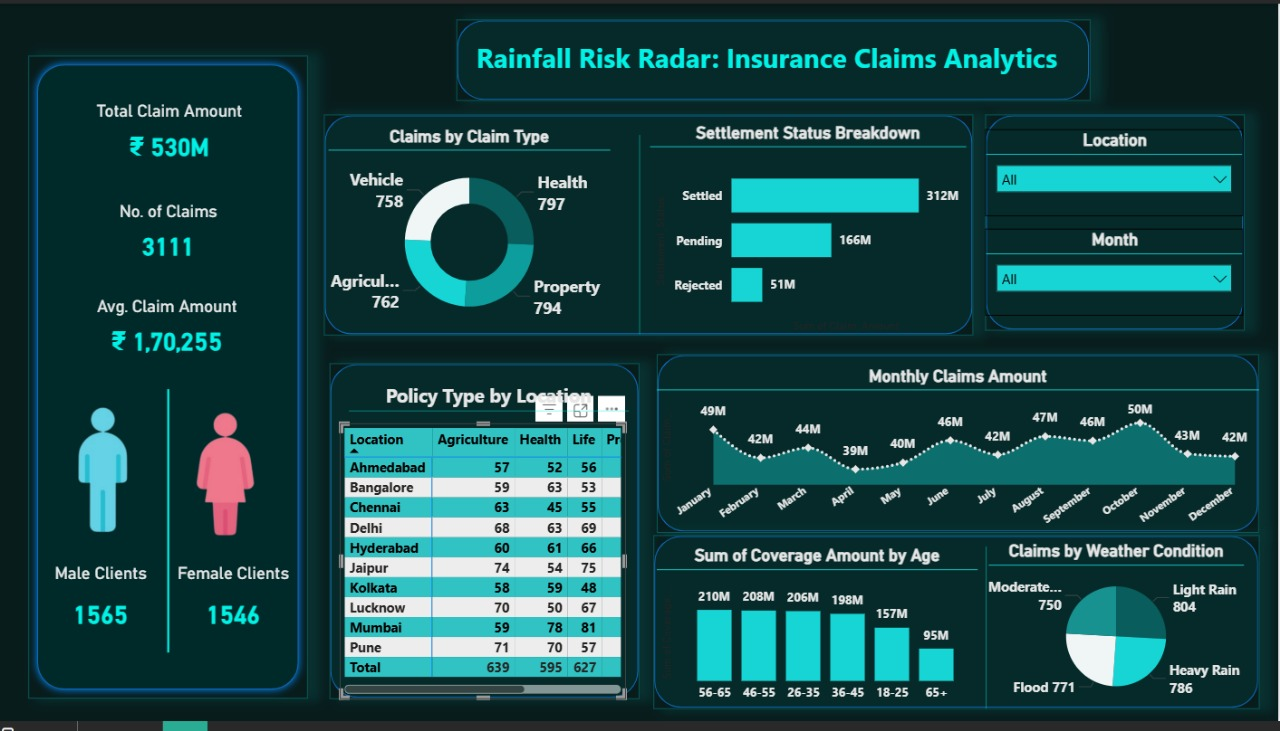

This screenshot's page, from the dashboard's own definition file:
{"tool":"powerbi","page":{"name":"Page 1","canvas":[1280,720],"ordinal":0},"visuals":[{"type":"shape","box":[28.8,52.1,279.9,644.9],"z":0},{"type":"shape","box":[28.1,387.2,280.2,264],"z":1000},{"type":"card","title":"Total Claim Amount","fields":{"Values":["Measure.Total Claim Amount"]},"box":[29.1,97.7,280.2,71.6],"z":2000},{"type":"card","title":"No. of Claims","fields":{"Values":["Measure.Total Policies"]},"box":[27.9,198.6,280.2,70.9],"z":3000},{"type":"card","title":"Avg. Claim Amount","fields":{"Values":["Measure.Average Claim Amount"]},"box":[26.7,293.3,280.2,70.9],"z":4000},{"type":"image","box":[62.1,390.7,82.6,151.2],"z":5000},{"type":"card","title":"Male Clients","fields":{"Values":["Measure.Male Claim Amount"]},"box":[47.6,561.4,106.6,82.8],"z":6000},{"type":"image","box":[183.7,395.3,83.7,148.8],"z":7000},{"type":"card","title":"Female  Clients","fields":{"Values":["Measure.Female Clients"]},"box":[159.9,561.4,147.4,82.8],"z":8000},{"type":"shape","box":[457.1,15.6,634.9,81.8],"z":9000},{"type":"textbox","box":[457.1,31.2,622,51.9],"z":10000},{"type":"shape","box":[324.8,111.2,650.8,221.7],"z":11000},{"type":"donutChart","title":"Claims by Claim Type","fields":{"Y":["CountNonNull(rain_insurance_claims_4568 (1).Claim_ID)"],"Category":["rain_insurance_claims_4568 (1).Claim_Type"]},"box":[329.2,122,282.6,206.8],"z":12000},{"type":"shape","box":[500.2,131.6,280.9,200.3],"z":13000},{"type":"clusteredBarChart","title":"Settlement Status Breakdown","fields":{"Y":["Sum(rain_insurance_claims_4568 (1).Claim_Amount)"],"Category":["rain_insurance_claims_4568 (1).Settlement_Status"]},"box":[650.8,119.5,316.5,213.4],"z":14000},{"type":"shape","box":[329.5,360.4,310.6,336.7],"z":15000},{"type":"shape","box":[657.9,351.9,603.4,179],"z":16000},{"type":"areaChart","title":"Monthly Claims Amount","fields":{"Category":["rain_insurance_claims_4568 (1).Claim_Date.Variation.Date Hierarchy.Month"],"Y":["Sum(rain_insurance_claims_4568 (1).Claim_Amount)"]},"box":[657.9,362.5,603.4,168.3],"z":17000},{"type":"shape","box":[654.3,533.2,606.9,174.3],"z":18000},{"type":"pivotTable","title":"Settlement Status Breakdown","fields":{"Rows":["rain_insurance_claims_4568 (1).Location"],"Values":["CountNonNull(rain_insurance_claims_4568 (1).Claim_ID)"],"Columns":["rain_insurance_claims_4568 (1).Policy_Type"]},"box":[340.2,420.8,286.9,276.2],"z":19000},{"type":"shape","box":[986.8,111.7,259.7,216.8],"z":20000},{"type":"columnChart","title":"Sum of Coverage Amount by Age","fields":{"Y":["Sum(rain_insurance_claims_4568 (1).Coverage_Amount)"],"Category":["rain_insurance_claims_4568 (1).Age Range"]},"box":[657.9,542.9,321.2,164.8],"z":21000},{"type":"shape","box":[847.6,544.1,280.9,162.4],"z":22000},{"type":"pieChart","title":"Claims by Weather Condition","fields":{"Category":["rain_insurance_claims_4568 (1).Weather_Condition"],"Y":["CountNonNull(rain_insurance_claims_4568 (1).Claim_Type)"]},"box":[990.7,538.9,255.8,164.9],"z":23000},{"type":"slicer","title":"Location","fields":{"Values":["rain_insurance_claims_4568 (1).Location"]},"box":[986.8,125.9,258.4,87],"z":24000},{"type":"slicer","title":"Month","fields":{"Values":["rain_insurance_claims_4568 (1).Claim_Date.Variation.Date Hierarchy.Month"]},"box":[986.8,225.9,258.4,87],"z":25000},{"type":"textbox","box":[337.6,375.2,302.5,45.4],"z":26000},{"type":"shape","box":[349.3,309,280.5,200],"z":27000}]}

Visuals, with their boxes in screenshot pixels (x1, y1, x2, y2), scaled from the page's 1280x720 canvas onto the 1280x731 screenshot:
shape: [29, 53, 309, 708]
shape: [28, 393, 308, 661]
"Total Claim Amount" card: [29, 99, 309, 172]
"No. of Claims" card: [28, 202, 308, 274]
"Avg. Claim Amount" card: [27, 298, 307, 370]
image: [62, 397, 145, 550]
"Male Clients" card: [48, 570, 154, 654]
image: [184, 401, 267, 552]
"Female  Clients" card: [160, 570, 307, 654]
shape: [457, 16, 1092, 99]
textbox: [457, 32, 1079, 84]
shape: [325, 113, 976, 338]
"Claims by Claim Type" donutChart: [329, 124, 612, 334]
shape: [500, 134, 781, 337]
"Settlement Status Breakdown" clusteredBarChart: [651, 121, 967, 338]
shape: [330, 366, 640, 708]
shape: [658, 357, 1261, 539]
"Monthly Claims Amount" areaChart: [658, 368, 1261, 539]
shape: [654, 541, 1261, 718]
"Settlement Status Breakdown" pivotTable: [340, 427, 627, 708]
shape: [987, 113, 1246, 334]
"Sum of Coverage Amount by Age" columnChart: [658, 551, 979, 719]
shape: [848, 552, 1128, 717]
"Claims by Weather Condition" pieChart: [991, 547, 1246, 715]
"Location" slicer: [987, 128, 1245, 216]
"Month" slicer: [987, 229, 1245, 318]
textbox: [338, 381, 640, 427]
shape: [349, 314, 630, 517]
